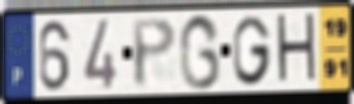4: (81, 15, 119, 93)
6: (38, 17, 73, 94)
G: (177, 11, 223, 92), (231, 13, 273, 88)
H: (274, 11, 320, 89)
P: (130, 15, 179, 91)
